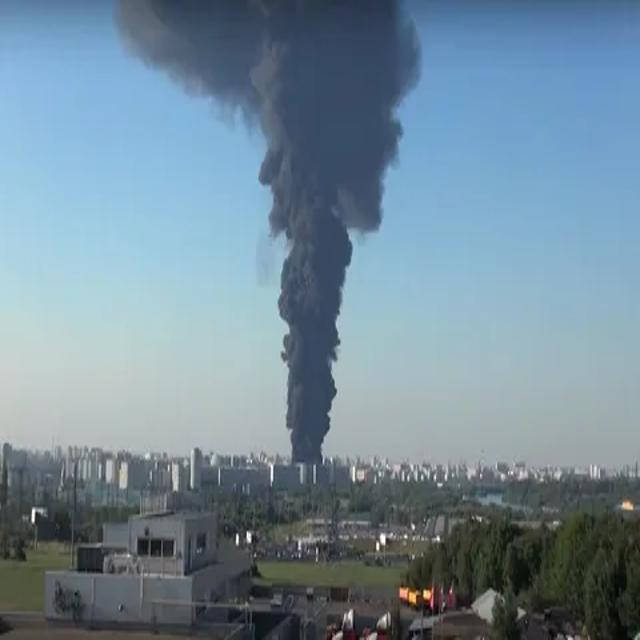Smoke: (223, 0, 430, 464)
